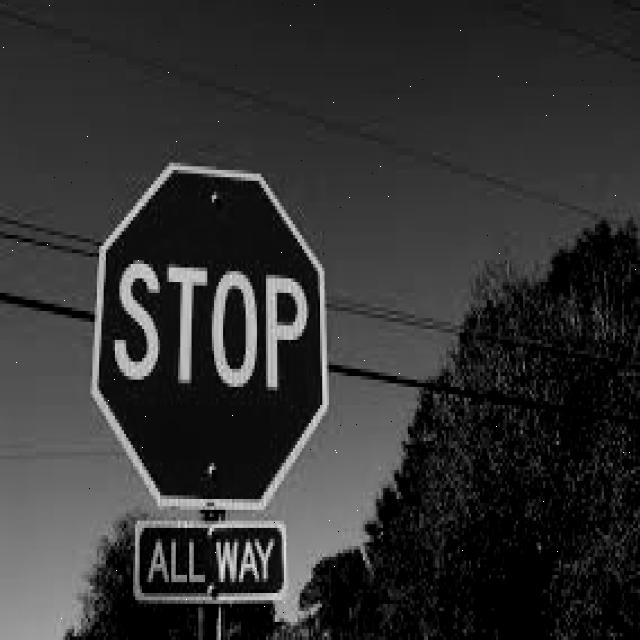stop sign: (96, 162, 326, 593)
